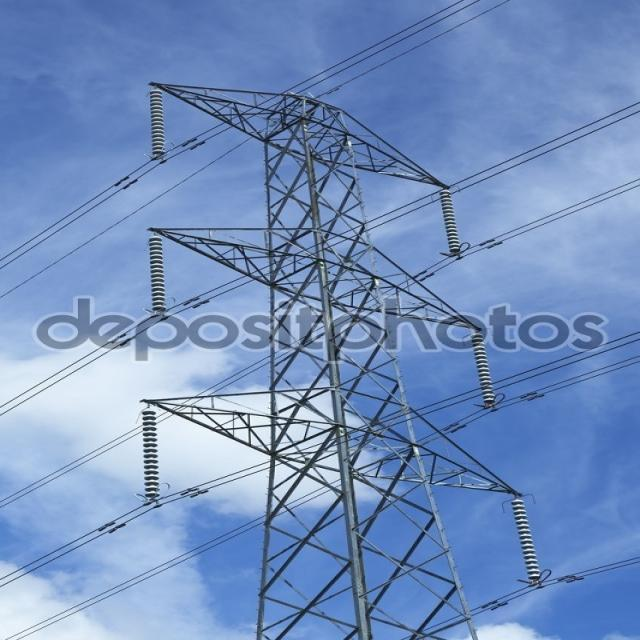non-critical vegetation: (122, 71, 552, 636)
